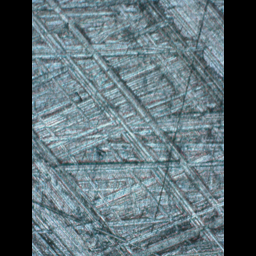d: (40, 23, 215, 227)
